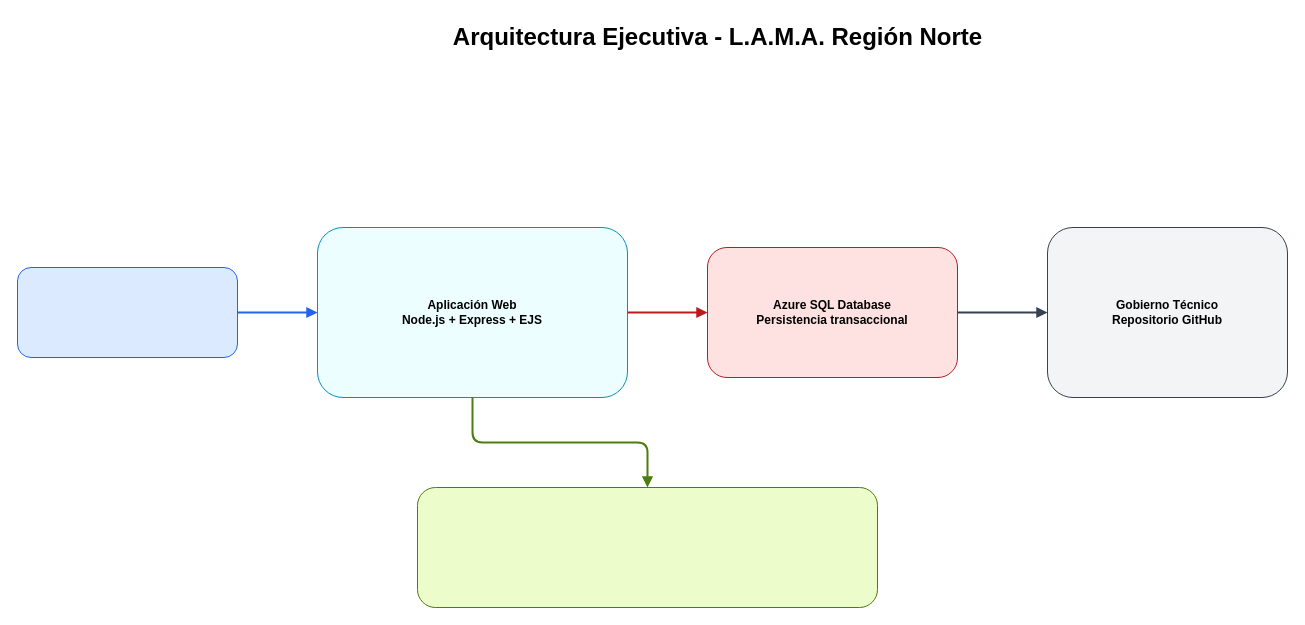
Some shapes in this 1305 by 625 pixel diagram are drawn without their labels. The centre of each missing label's shape, as x and y in pixels:
Canal Web: [127,312]
Resultado de negocio Portal estable y operable: [647,547]
